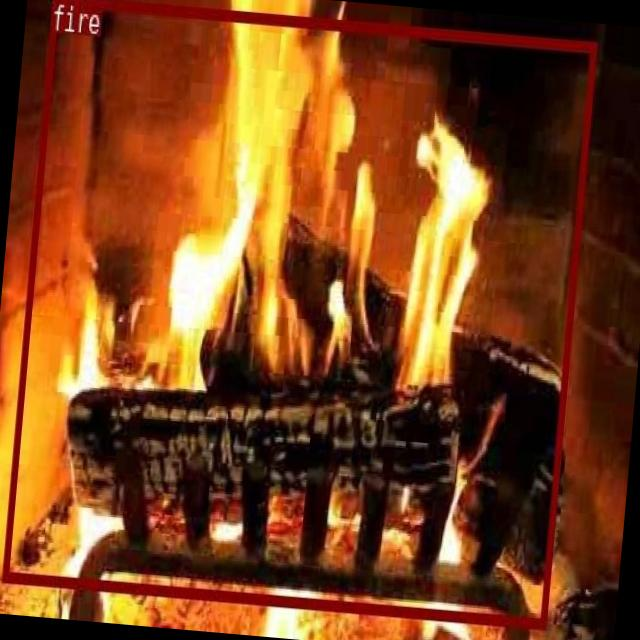fire: (1, 0, 596, 627)
